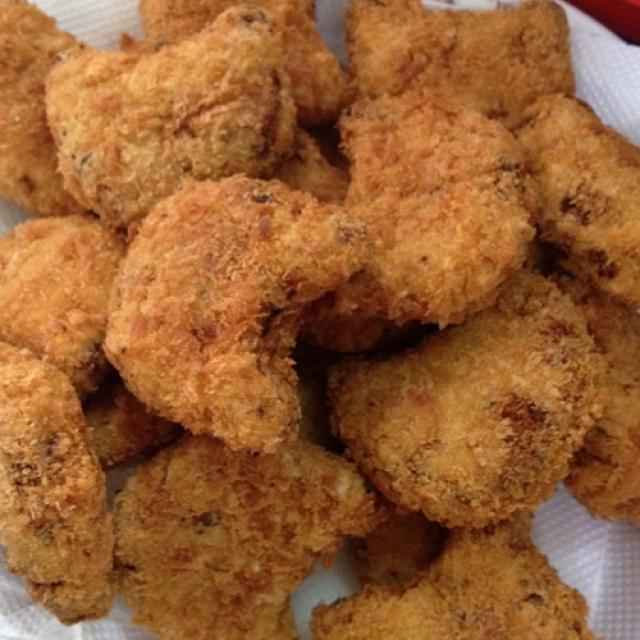炸货点心: (9, 10, 630, 634)
